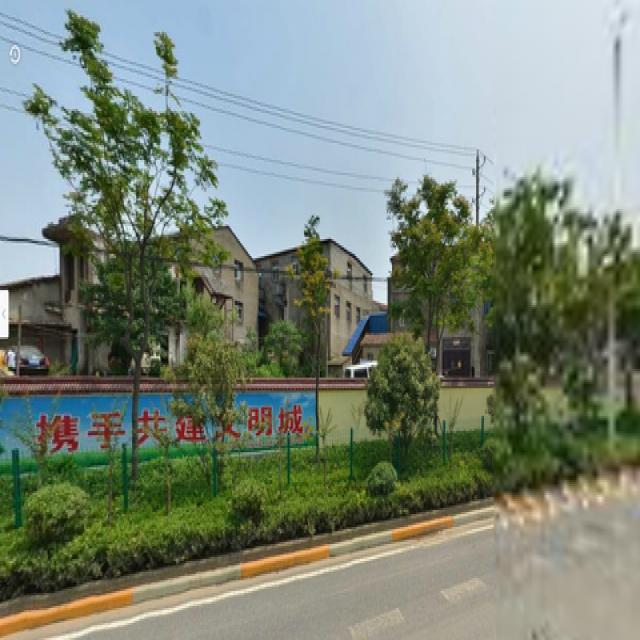koel: (57, 59, 168, 457), (411, 211, 461, 380)
